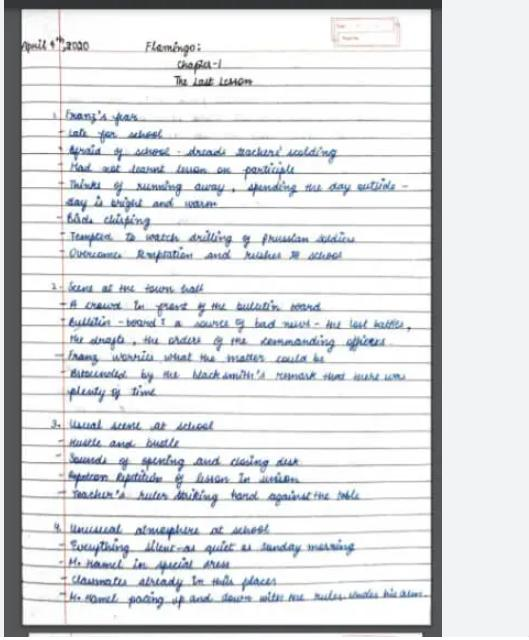text: (66, 587, 427, 610), (66, 314, 412, 334), (68, 176, 410, 196), (61, 536, 356, 559), (71, 486, 362, 509), (69, 366, 409, 384), (66, 334, 390, 351), (69, 229, 356, 248), (66, 143, 338, 163), (66, 245, 344, 264), (68, 298, 322, 318), (66, 451, 302, 472), (54, 519, 274, 540), (67, 159, 296, 179), (71, 571, 279, 592), (66, 471, 301, 489), (64, 351, 326, 366), (66, 554, 232, 576), (64, 194, 219, 214), (50, 417, 215, 431), (65, 280, 206, 296), (59, 435, 181, 451), (67, 383, 158, 404), (66, 126, 164, 144), (65, 212, 151, 231), (62, 106, 139, 127), (173, 72, 255, 90), (143, 37, 202, 59), (20, 35, 88, 54), (175, 55, 224, 75)
